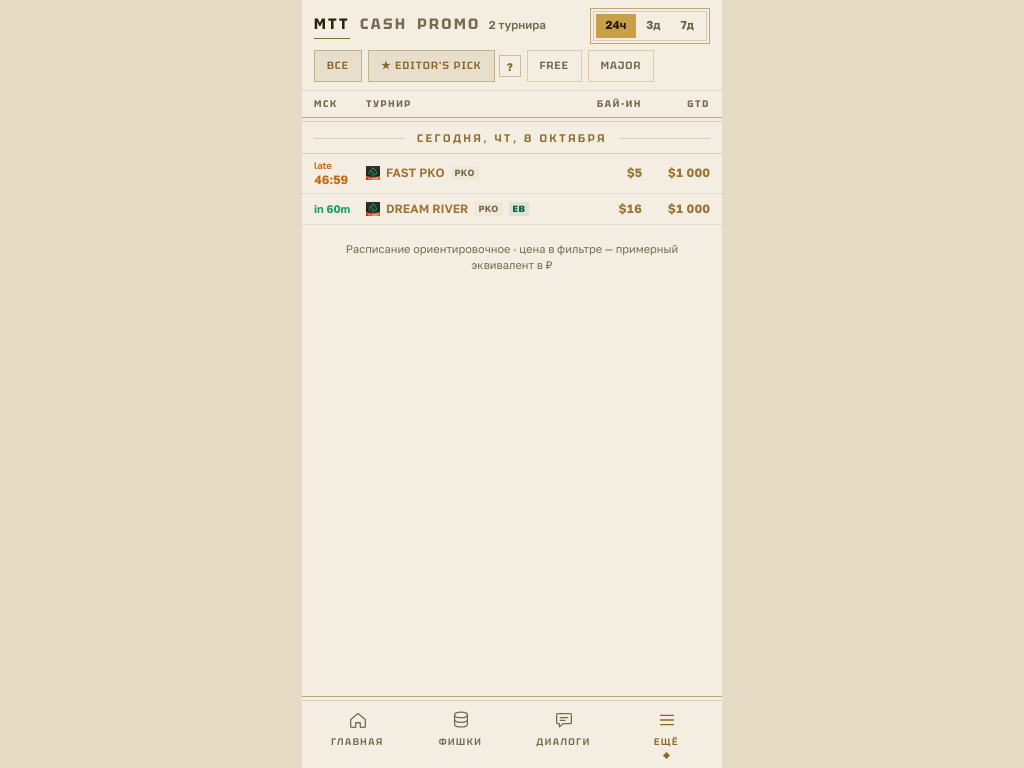
TournamentsPage › тап по турниру открывает карточку с параметрами
The width and height of the screenshot is (1024, 768).
Click the text "DREAM RIVER". click: x=427, y=209
box: [386,200,468,218]
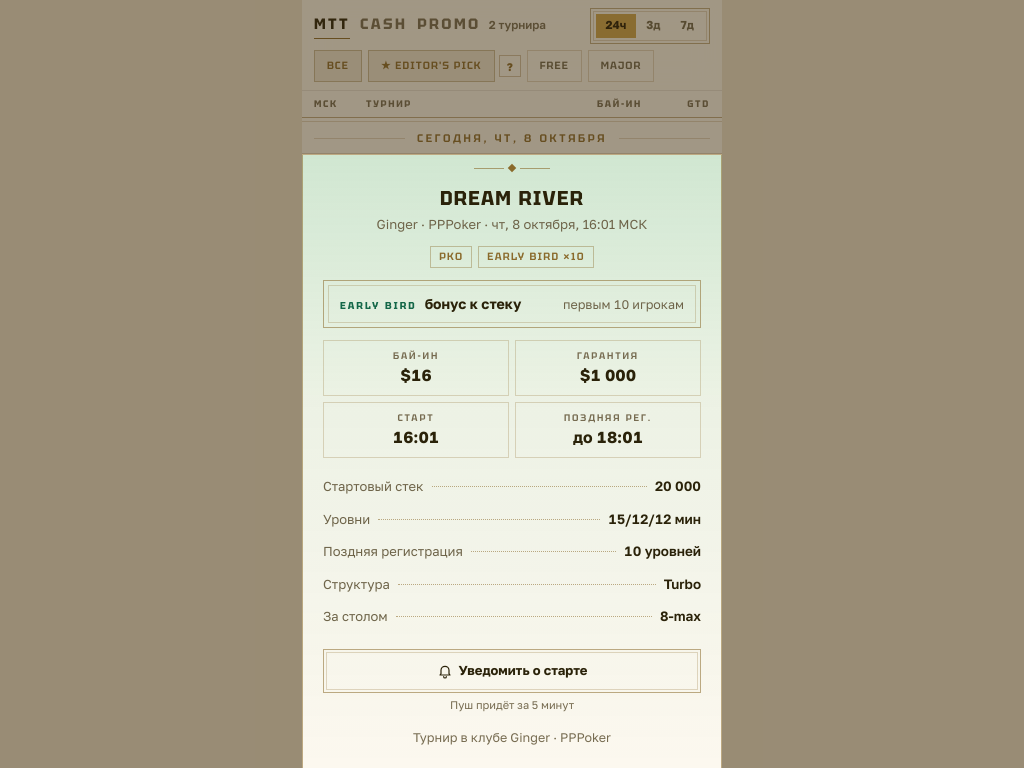
Expected: the heading "DREAM RIVER" is shown, [440,185,584,211]
Expected: the text "20 000" is shown, [655,476,701,497]
Expected: the text "15/12/12 мин" is shown, [608,509,701,529]
